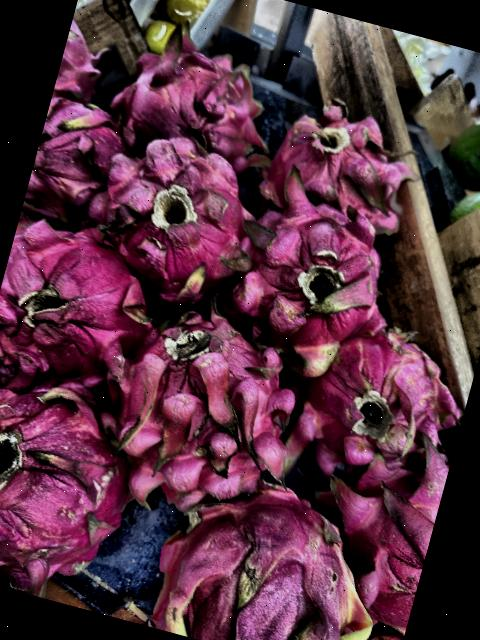buah-naga-belum-matang: (144, 455, 398, 640)
buah-naga-matang: (90, 273, 311, 516), (209, 164, 404, 378), (0, 358, 155, 605), (290, 411, 456, 636), (78, 119, 272, 306), (291, 305, 472, 488), (0, 204, 161, 400), (97, 8, 280, 166), (245, 81, 422, 230), (21, 92, 135, 234), (52, 24, 112, 106)
